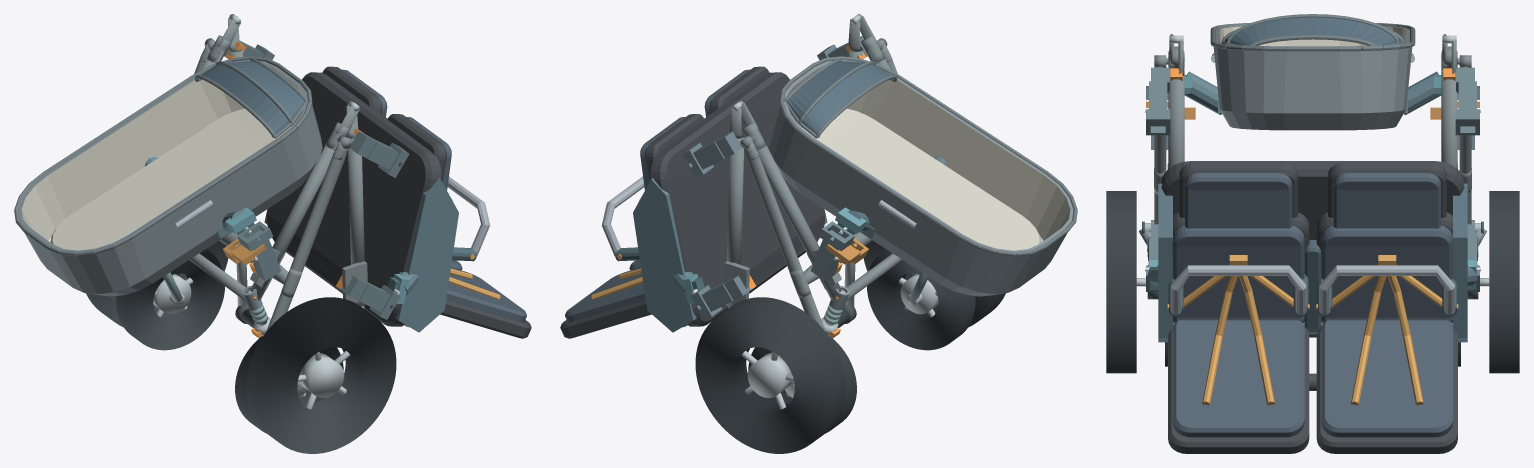
File: D24_w650_state3_wheel_L.glb
3 views of the same model, side by side, from view 1: azimuth 30°, elevation 25°; view 2: azimuth 150°, elevation 25°; view 3: azimuth 270°, elevation 25° (orthographic). The views are drawn at different scales.
Visible parts, largest first — view 1: D24_Lower, D24_Upper, RL_tire.008, FR_tire.008, V46_rear_leg_-1.009, main_lower_-1.009, main_upper_-1.009, RL_sealed_hub.008, Universal_Cabin_Receiver_M_-1, Universal_Cabin_Receiver_L_-1, Universal_Cabin_Receiver_H_-1, FL_tire.008 (+7 smaller); view 2: D24_Lower, D24_Upper, RR_tire.008, FL_tire.008, V46_rear_leg_1.009, main_lower_1.009, main_upper_1.009, RR_sealed_hub.008, Universal_Cabin_Receiver_M_1, Universal_Cabin_Receiver_L_1, Universal_Cabin_Receiver_H_1, FR_tire.008 (+7 smaller); view 3: D24_Upper, D24_Lower, RL_tire.008, RR_tire.008, D24_Lower_Mount_L, Universal_Cabin_Receiver_M_-1, Universal_Cabin_Receiver_M_1, main_upper_1.009, main_upper_-1.009, D24_Upper_Mount_H, V46_rear_leg_1.009, V46_rear_leg_-1.009 (+2 smaller).
Boxes of the visible parts, <box> form: D24_Lower: <box>14,56,322,296</box>; D24_Upper: <box>264,66,531,338</box>; RL_tire.008: <box>246,297,396,453</box>; FR_tire.008: <box>116,249,224,350</box>; V46_rear_leg_-1.009: <box>266,148,346,331</box>; main_lower_-1.009: <box>250,143,337,300</box>; main_upper_-1.009: <box>347,137,365,306</box>; RL_sealed_hub.008: <box>299,353,344,398</box>; Universal_Cabin_Receiver_M_-1: <box>349,131,409,177</box>; Universal_Cabin_Receiver_L_-1: <box>237,221,280,280</box>; Universal_Cabin_Receiver_H_-1: <box>341,275,400,319</box>; FL_tire.008: <box>235,336,343,433</box>; D24_Lower: <box>769,56,1077,296</box>; D24_Upper: <box>560,66,827,338</box>; RR_tire.008: <box>695,297,845,453</box>; FL_tire.008: <box>867,249,975,350</box>; V46_rear_leg_1.009: <box>745,148,825,331</box>; main_lower_1.009: <box>754,143,841,300</box>; main_upper_1.009: <box>726,134,744,306</box>; RR_sealed_hub.008: <box>747,353,792,398</box>; Universal_Cabin_Receiver_M_1: <box>682,131,742,177</box>; Universal_Cabin_Receiver_L_1: <box>811,221,854,280</box>; Universal_Cabin_Receiver_H_1: <box>691,275,750,319</box>; FR_tire.008: <box>748,336,856,433</box>; D24_Upper: <box>1158,161,1467,453</box>; D24_Lower: <box>1210,14,1415,130</box>; RL_tire.008: <box>1106,191,1136,373</box>; RR_tire.008: <box>1489,191,1519,373</box>; D24_Lower_Mount_L: <box>1184,71,1441,115</box>; Universal_Cabin_Receiver_M_-1: <box>1146,67,1170,135</box>; Universal_Cabin_Receiver_M_1: <box>1455,67,1479,135</box>; main_upper_1.009: <box>1441,74,1457,168</box>; main_upper_-1.009: <box>1168,74,1184,168</box>; D24_Upper_Mount_H: <box>1145,259,1480,289</box>; V46_rear_leg_1.009: <box>1459,135,1471,224</box>; V46_rear_leg_-1.009: <box>1154,135,1166,224</box>.
Bounding box in the file's own units: 1.16 × 0.7866 × 0.8171.
